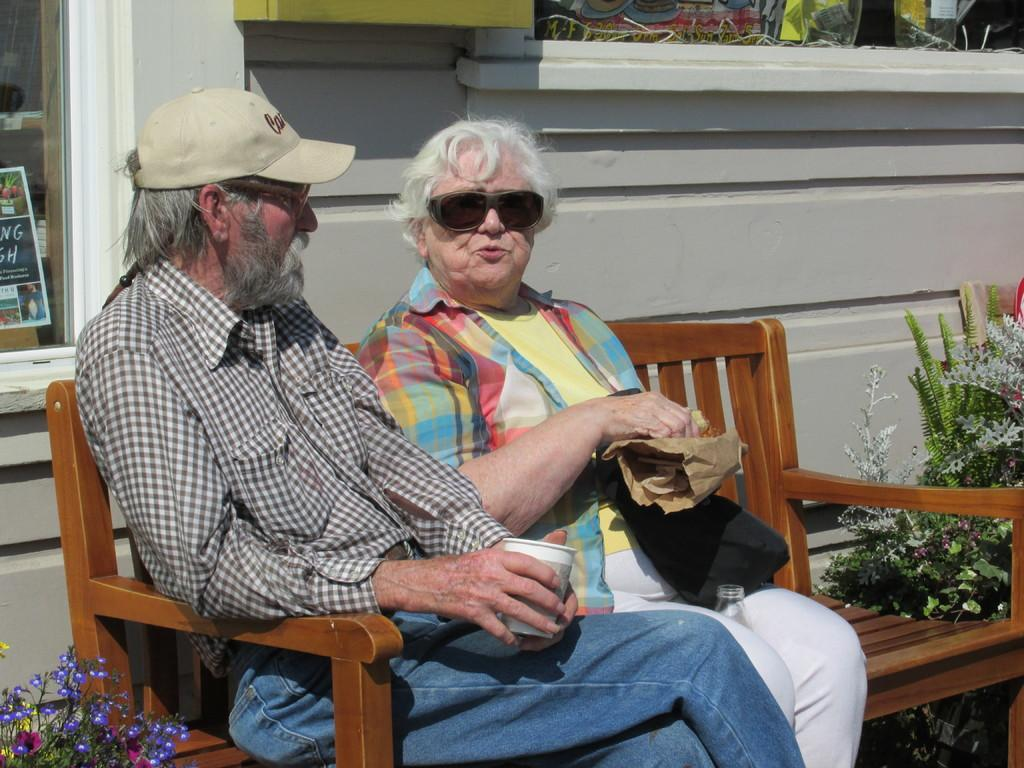Hat: (134, 82, 357, 193)
